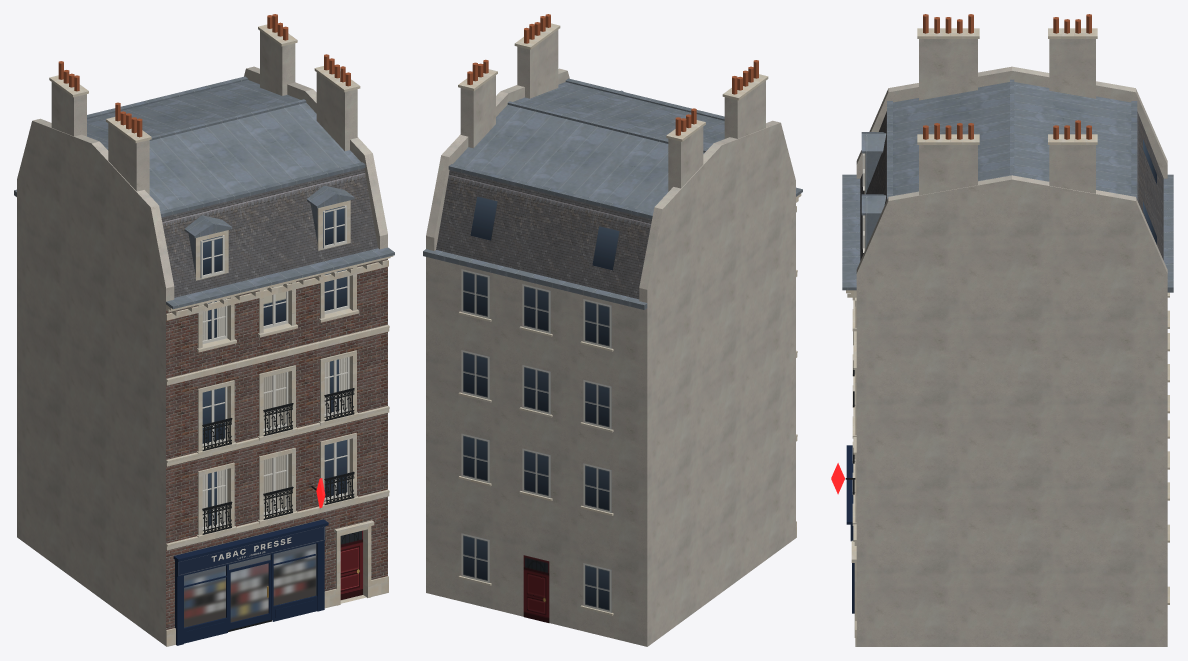
Rendered from immeuble_brique_tabac.glb.
3 views of the same model, side by side, from view 1: azimuth 30°, elevation 25°; view 2: azimuth 150°, elevation 25°; view 3: azimuth 270°, elevation 25° (orthographic). The views are drawn at different scales.
Visible parts, largest first — view 1: immeuble_brique_tabac; view 2: immeuble_brique_tabac; view 3: immeuble_brique_tabac.
Part boxes in pixels (x1,y1,x2,y2): immeuble_brique_tabac: (14,14,394,646); immeuble_brique_tabac: (423,14,802,646); immeuble_brique_tabac: (831,14,1173,646).
Size of the model in its own units: 8.7 by 18.53 by 11.02.
14 materials, 8 textured.
